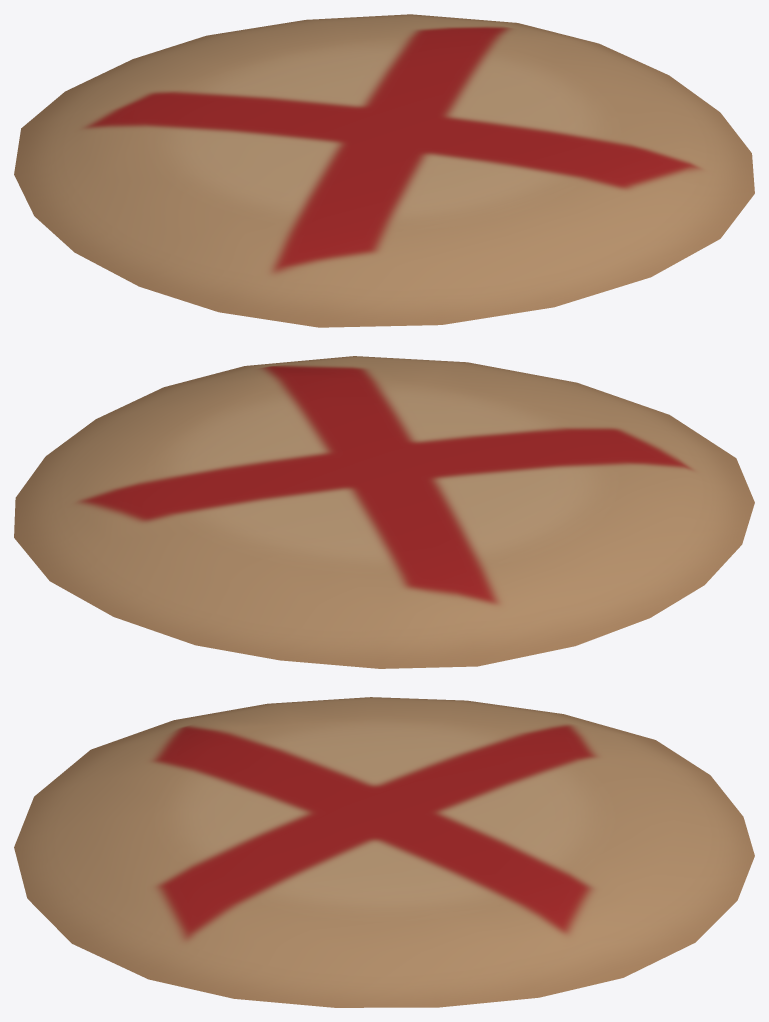
File: SM_TreasureSpot.fbx
The picture shows the model from 3 angles, top to bottom: view 1: azimuth 30°, elevation 25°; view 2: azimuth 150°, elevation 25°; view 3: azimuth 270°, elevation 25°; orthographic projection.
Parts seen in each view (by area): view 1: TreasureSpot; view 2: TreasureSpot; view 3: TreasureSpot.
Part boxes in pixels (<box>): TreasureSpot: <box>14,14,754,327</box>; TreasureSpot: <box>14,356,754,668</box>; TreasureSpot: <box>14,697,754,1007</box>.
Size of the model in its own units: 91.39 by 6 by 92.08.
Materials: 1 (1 with a texture image).
